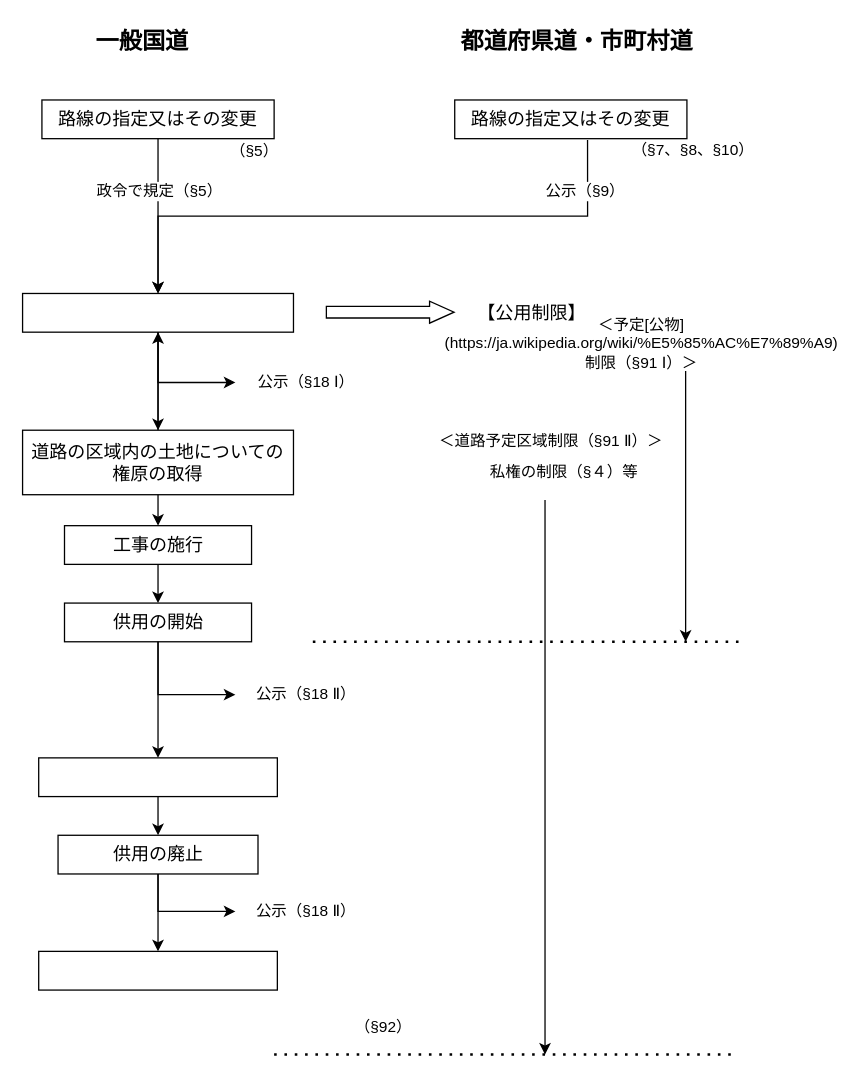
The diagram is 860 pixels wide and 1087 high, and some of its shapes have lost their labels. Each missing label, with the centre of its shape:
"不要物件の管理" goes at pixel 157 970.
"供用中の道路の管理" goes at pixel 157 777.
"道路の区域の決定又はその変更" goes at pixel 157 312.
